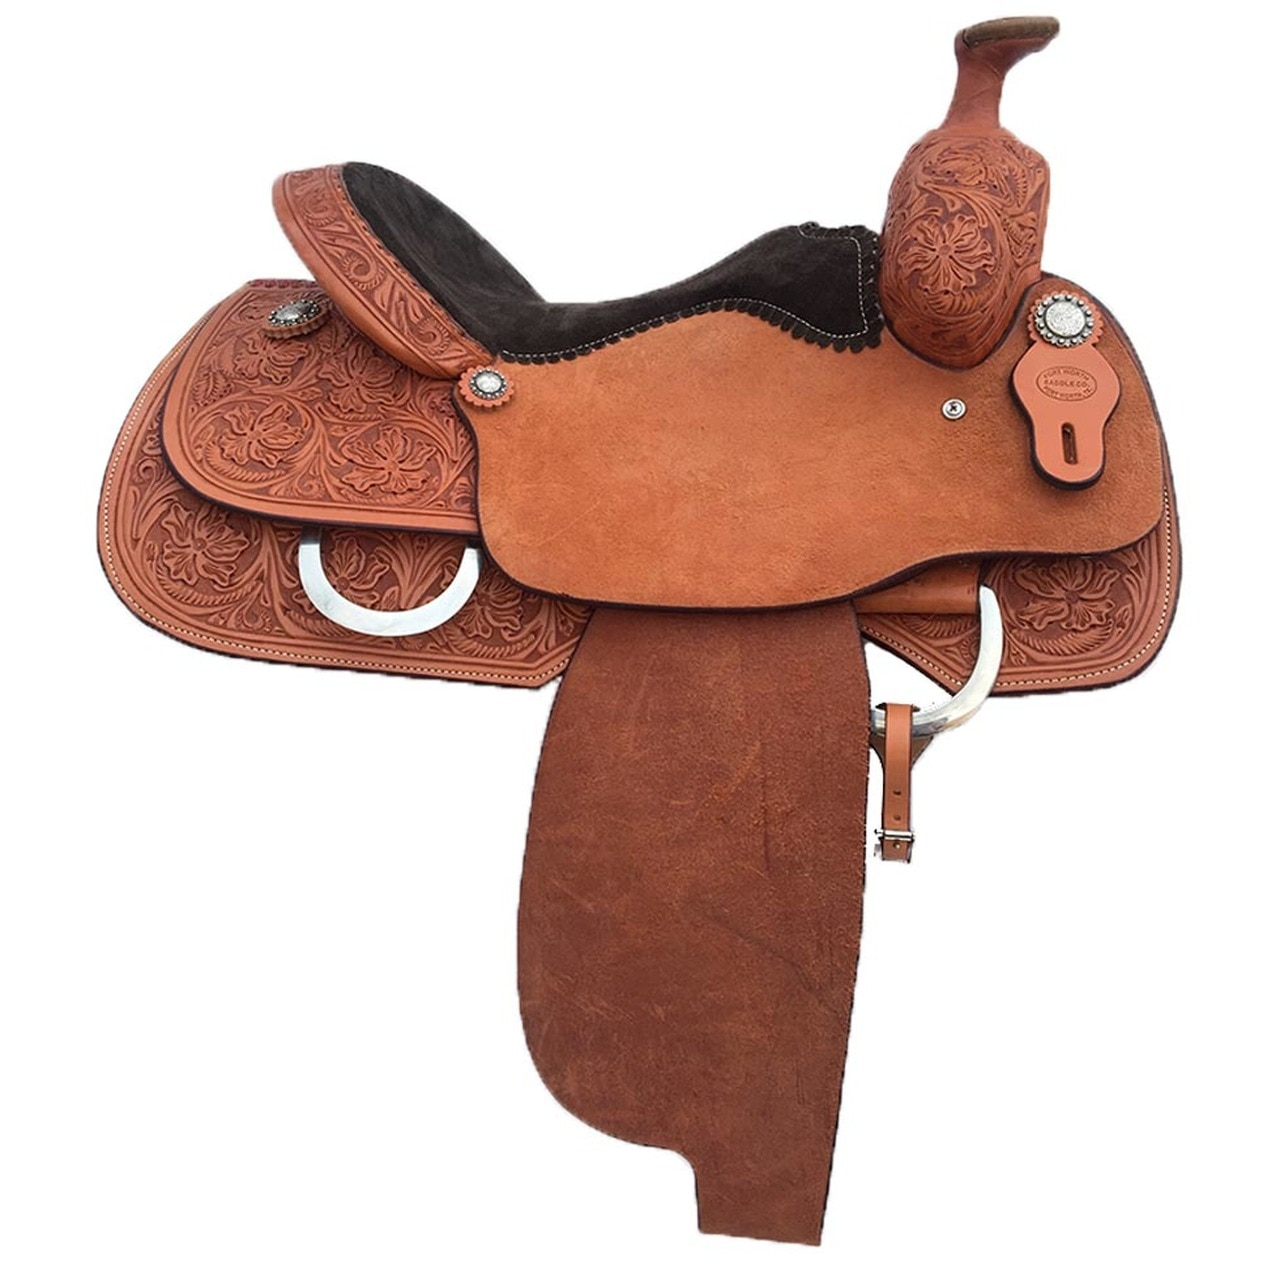saddle: (48, 88, 1176, 903), (142, 88, 1176, 903)
